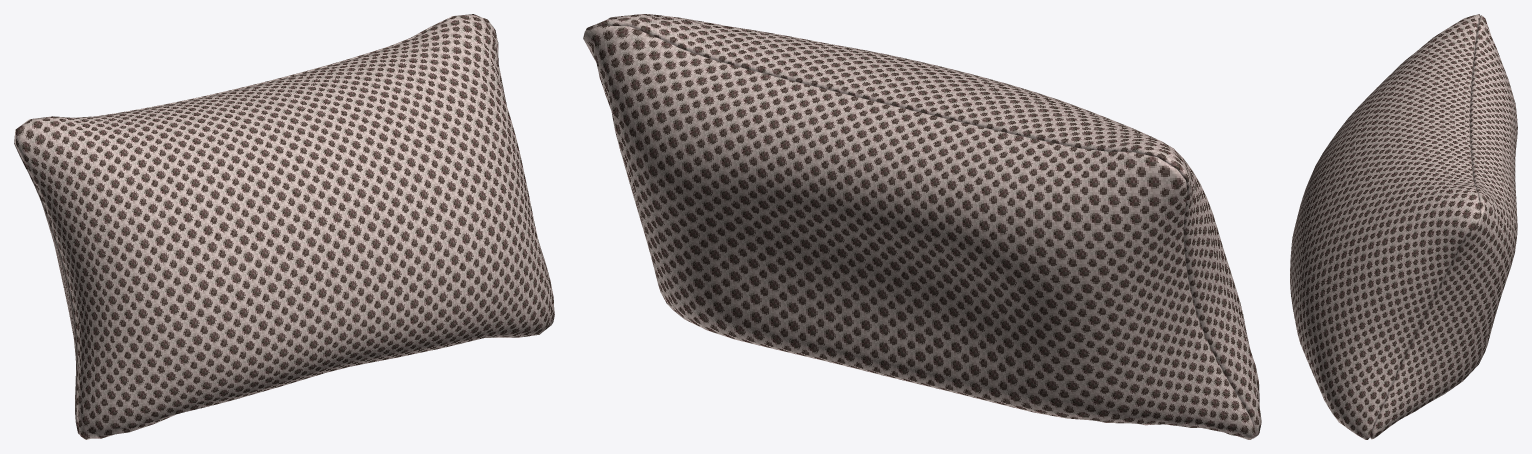
Rendered from Common_Pillow_centre.glb.
3 views of the same model, side by side, from view 1: azimuth 30°, elevation 25°; view 2: azimuth 150°, elevation 25°; view 3: azimuth 270°, elevation 25° (orthographic). The views are drawn at different scales.
Visible parts, largest first — view 1: Pillow_centre; view 2: Pillow_centre; view 3: Pillow_centre.
Part boxes in pixels (<box>): Pillow_centre: <box>14,14,554,439</box>; Pillow_centre: <box>583,14,1261,439</box>; Pillow_centre: <box>1290,14,1517,439</box>.
Bounding box in the file's own units: 0.6578 × 0.3568 × 0.3116.
1 material, 1 textured.
